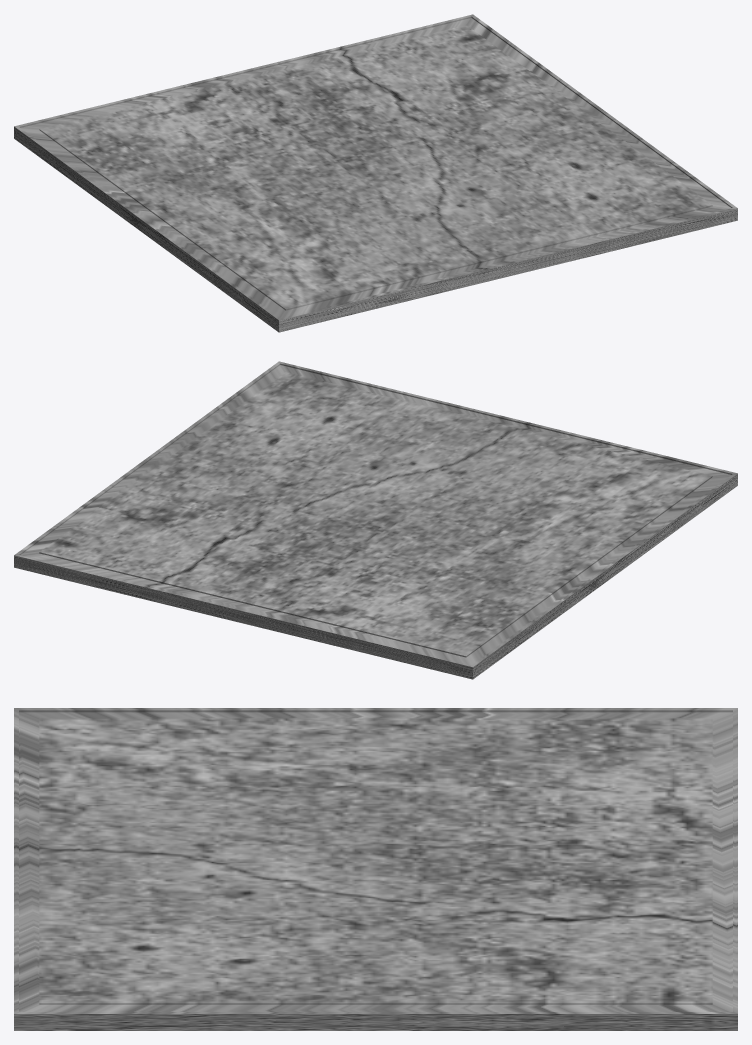
Rendered from floor.glb.
3 views of the same model, one above another, from view 1: azimuth 30°, elevation 25°; view 2: azimuth 150°, elevation 25°; view 3: azimuth 270°, elevation 25° (orthographic). The views are drawn at different scales.
Parts seen in each view (by area): view 1: Cube.001; view 2: Cube.001; view 3: Cube.001.
Boxes of the visible parts, x1,y1,x2,y2 form: Cube.001: (14, 14, 737, 332); Cube.001: (14, 361, 737, 679); Cube.001: (14, 708, 737, 1030).
Size of the model in its own units: 9.86 by 0.2583 by 9.86.
Materials: 1 (1 with a texture image).
